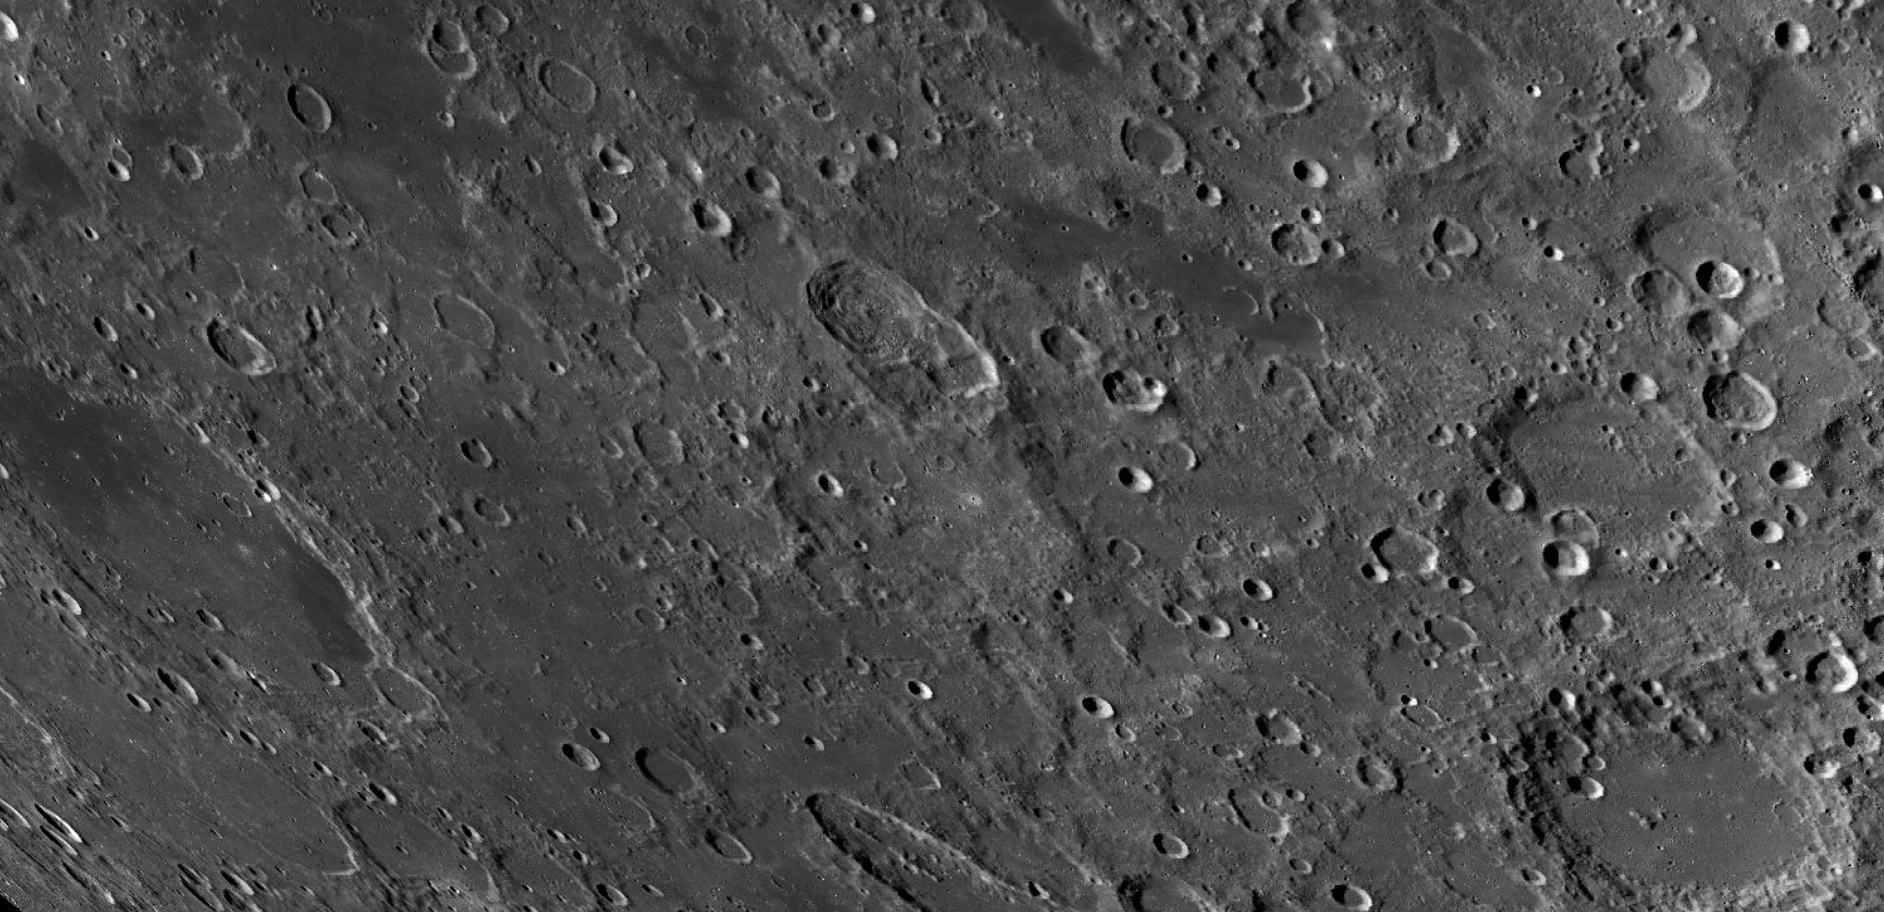crater: (1442, 618, 1880, 910), (1445, 341, 1731, 588), (782, 230, 1008, 422), (1591, 24, 1723, 125), (423, 278, 515, 366), (521, 48, 624, 129), (1105, 106, 1192, 198), (353, 643, 445, 721), (192, 310, 292, 377), (254, 65, 345, 137), (624, 737, 716, 807), (1758, 8, 1832, 88), (151, 118, 221, 198), (1395, 105, 1471, 172), (184, 588, 264, 644), (672, 187, 738, 251), (536, 737, 606, 792), (455, 481, 525, 534), (1266, 147, 1339, 195), (1061, 669, 1117, 726), (1103, 454, 1157, 503), (209, 483, 258, 537), (1092, 527, 1155, 570), (1230, 567, 1284, 607)
